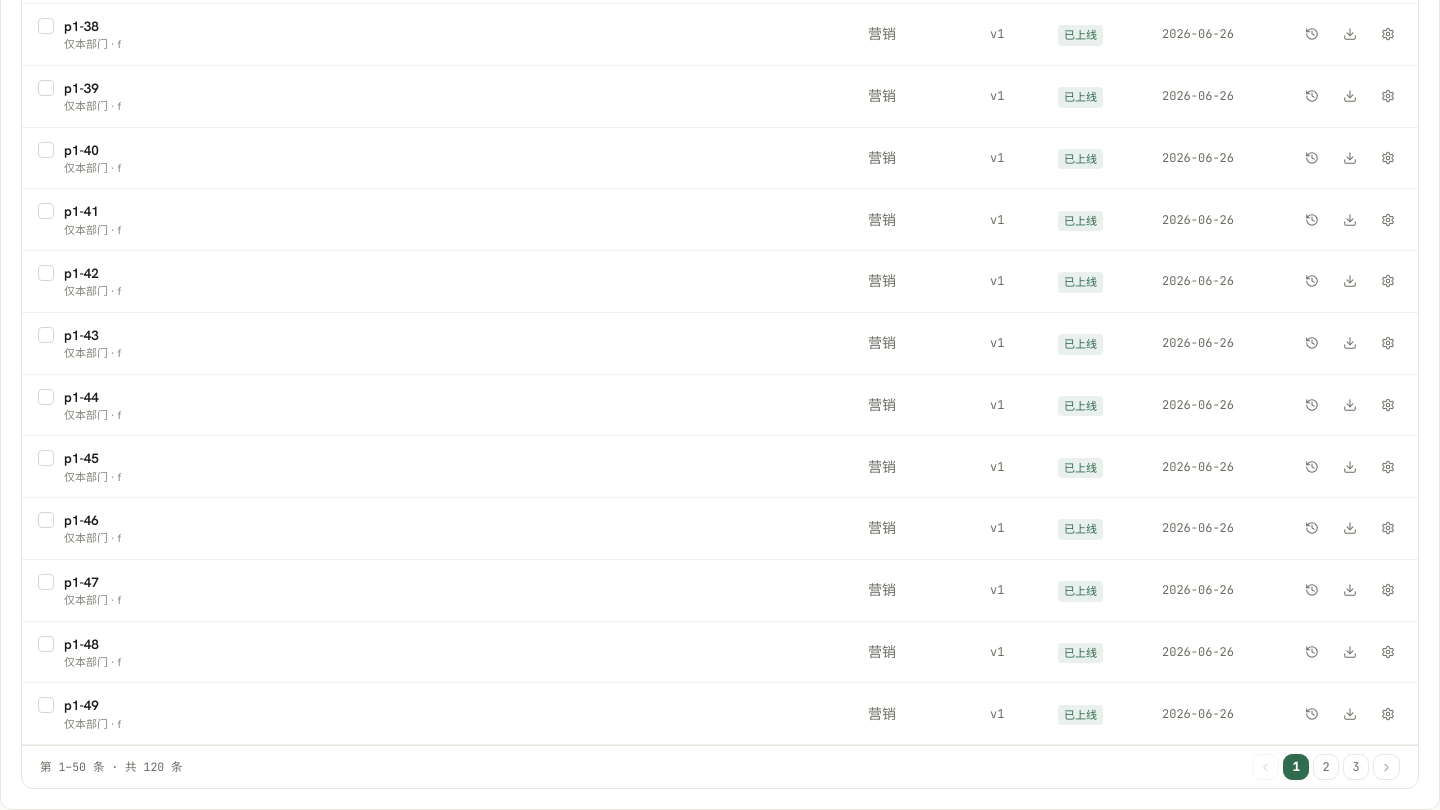
DocTable — 页码翻页器（2026-07-19 设计稿 doc-table.html pager） › QueuePager 取代「加载更多」：范围/总数直出，点页码 → loadDocsPage 整页【替换】
(page scrolled)
Expected: the element with test id "queue-pager" is shown, [22,745,1418,788]
Expected: the text with test id "pager-info" reads "第 1–50 条 · 共 120 条", [40,759,183,774]
Step 1. Click the button with test id "pager-page" → x=1326, y=767, box [1313,754,1339,780]
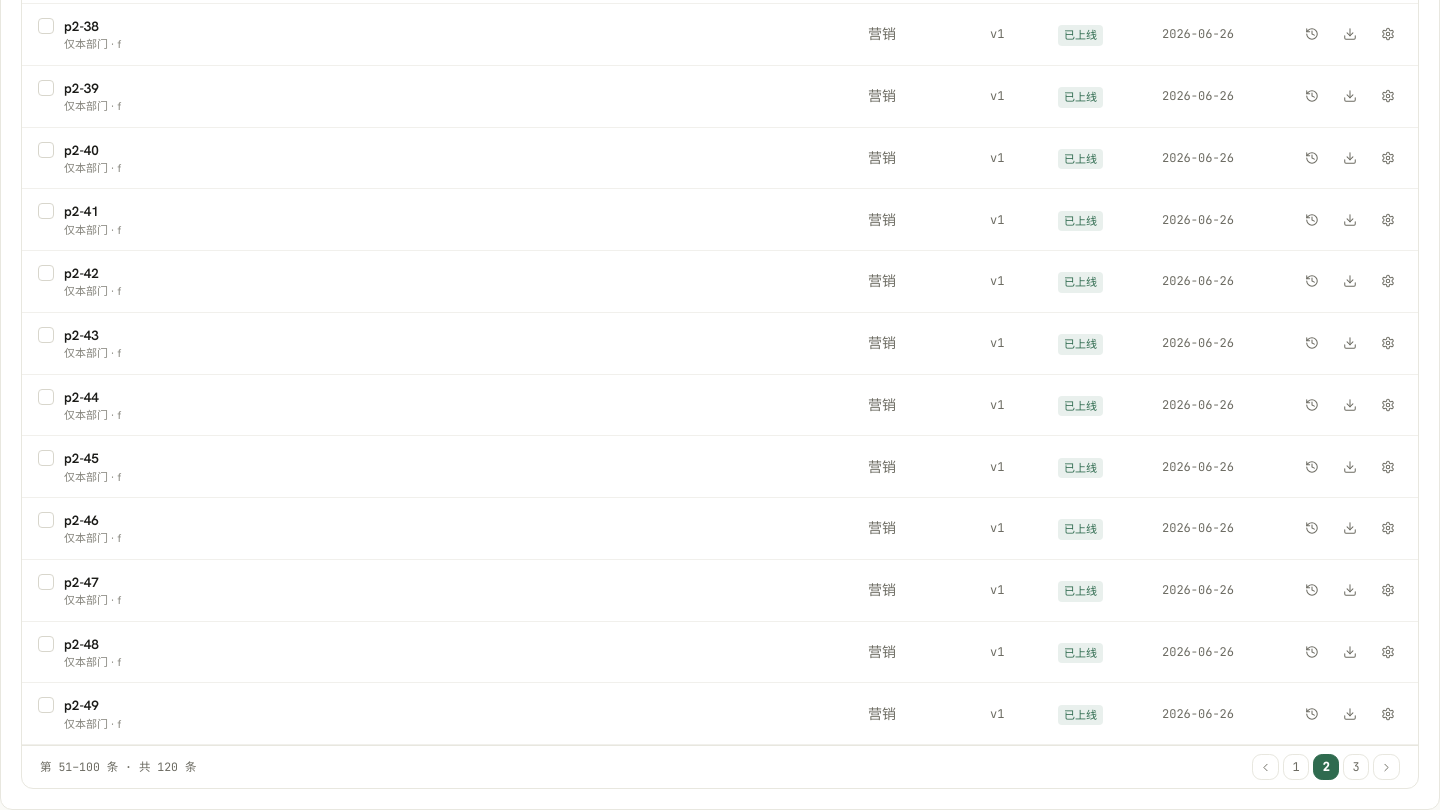
Result: the text with test id "pager-info" shows "第 51–100 条" at [40,759,196,774]
